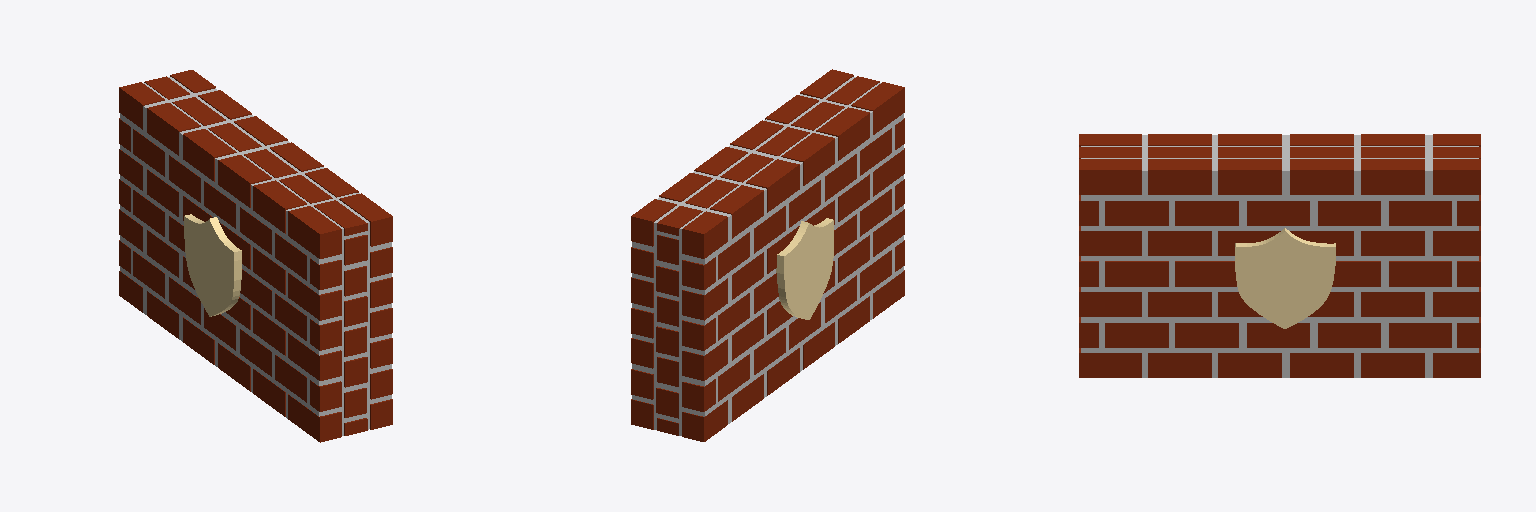
The model's file is d-fanghuoqiang.obj.
The picture shows the model from 3 angles: view 1: azimuth 30°, elevation 25°; view 2: azimuth 150°, elevation 25°; view 3: azimuth 270°, elevation 25°; orthographic projection.
Parts seen in each view (by area): view 1: 挤压.1; view 2: 挤压.1; view 3: 挤压.1.
Part boxes in pixels (bbox=[...]): 挤压.1: bbox=[119, 70, 392, 442]; 挤压.1: bbox=[631, 69, 904, 441]; 挤压.1: bbox=[1079, 134, 1480, 377].
Size of the model in its own units: 45.52 by 103 by 180.